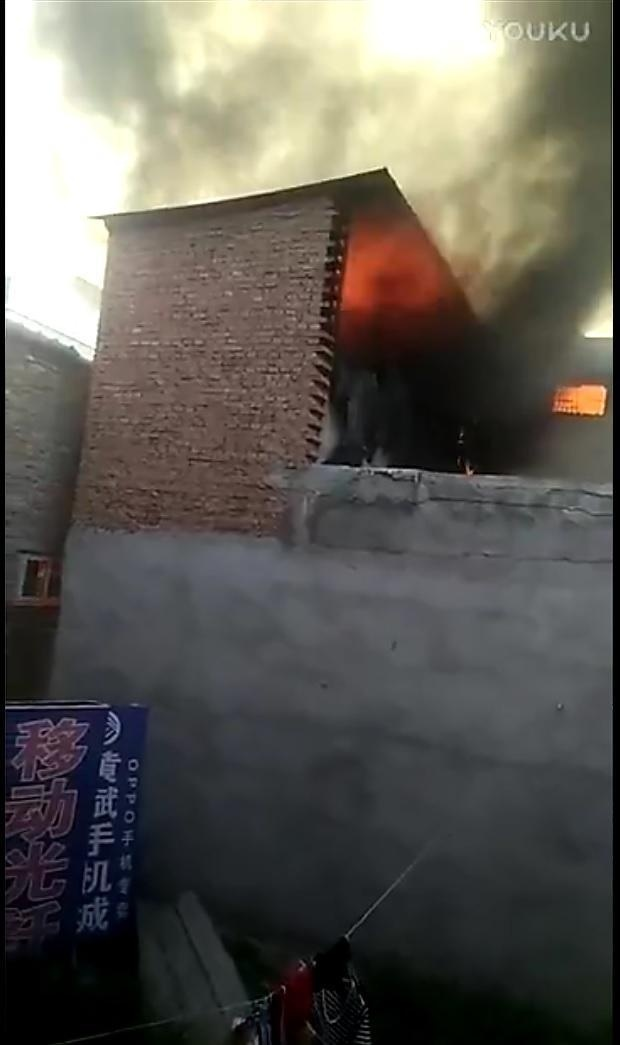fire: (553, 379, 606, 416)
